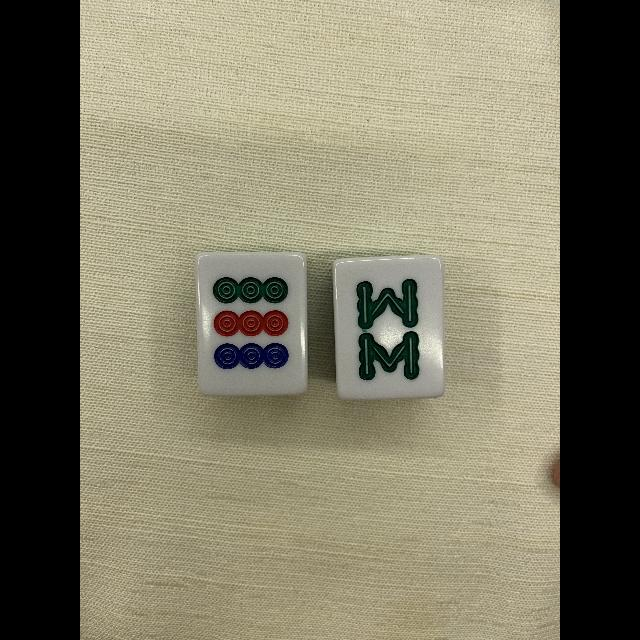b8: (338, 259, 440, 395)
d9: (198, 255, 306, 391)
